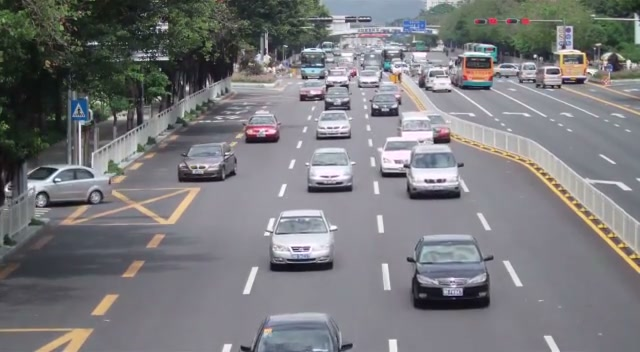bus: (452, 52, 495, 89)
car: (406, 233, 494, 309), (239, 312, 354, 352), (264, 209, 338, 271), (27, 165, 113, 208), (405, 143, 463, 199), (177, 142, 237, 183), (305, 146, 355, 192), (379, 136, 419, 178), (244, 113, 280, 144), (315, 110, 352, 140), (371, 92, 399, 117), (535, 65, 562, 89), (325, 87, 351, 110), (518, 62, 537, 83), (498, 63, 519, 78)
truck: (554, 49, 589, 84), (535, 64, 563, 88)
